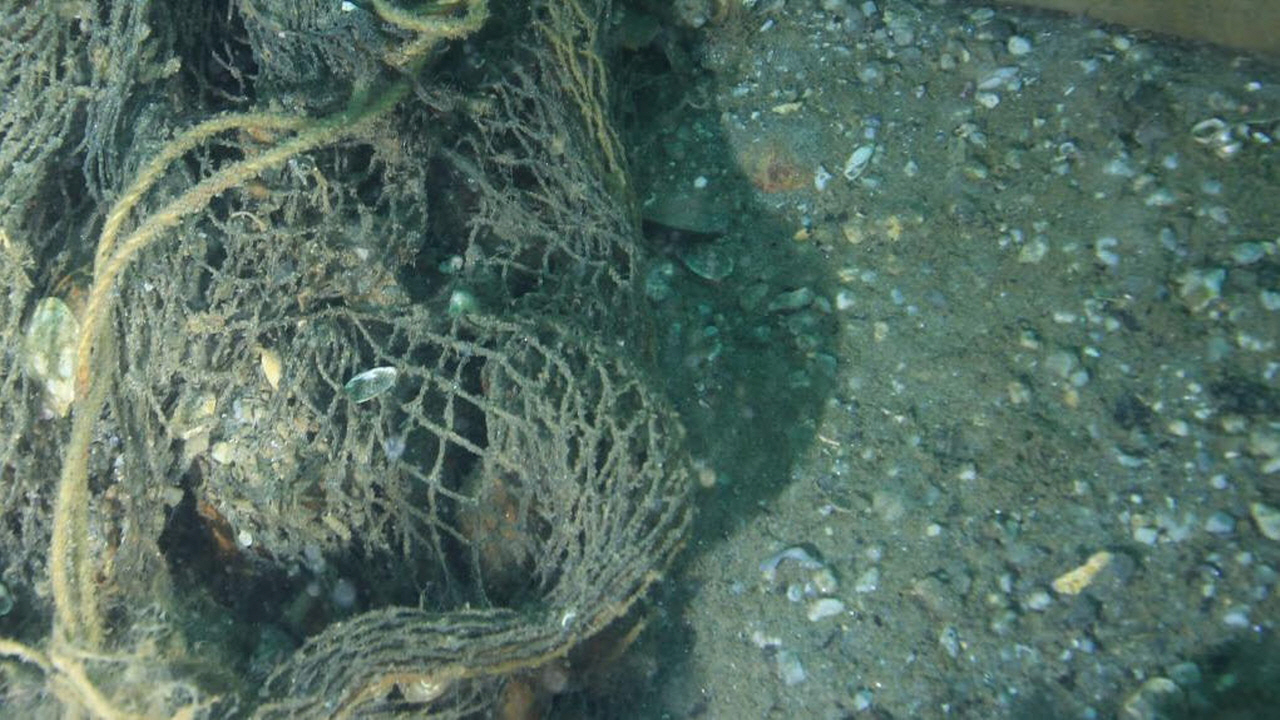fish net: (0, 0, 693, 720)
